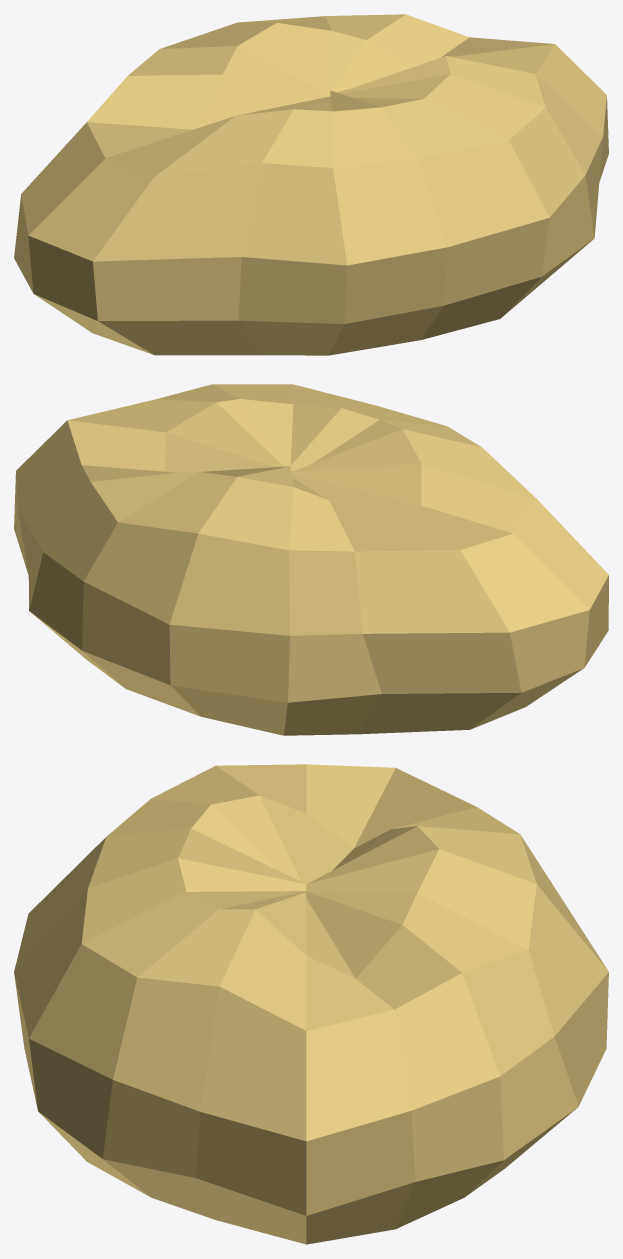
The model's file is SoftClay.glb.
3 renders of one model, top to bottom at view 1: azimuth 30°, elevation 25°; view 2: azimuth 150°, elevation 25°; view 3: azimuth 270°, elevation 25°, orthographic. The views are drawn at different scales.
Parts seen in each view (by area): view 1: SoftClay.001; view 2: SoftClay.001; view 3: SoftClay.001.
Boxes of the visible parts, box(x1,y1,x2,y2) form: SoftClay.001: box(14, 14, 608, 355); SoftClay.001: box(14, 384, 608, 735); SoftClay.001: box(14, 764, 608, 1244).
Size of the model in its own units: 0.3342 by 0.1351 by 0.2388.
